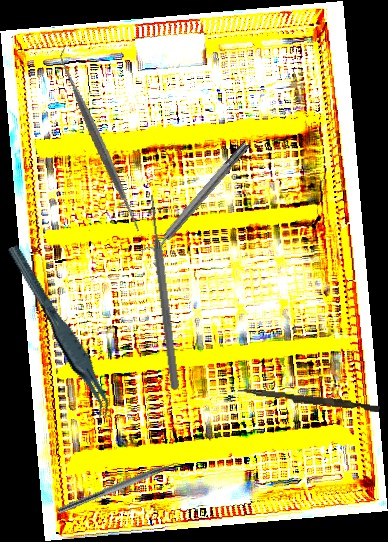Chopper: (57, 454, 190, 523)
Fixation Ring: (138, 137, 257, 267)
Pusher: (145, 192, 182, 390), (236, 387, 381, 413)
Spatula Surgical: (1, 46, 198, 240)
Tissue Forceps: (6, 235, 115, 428)
